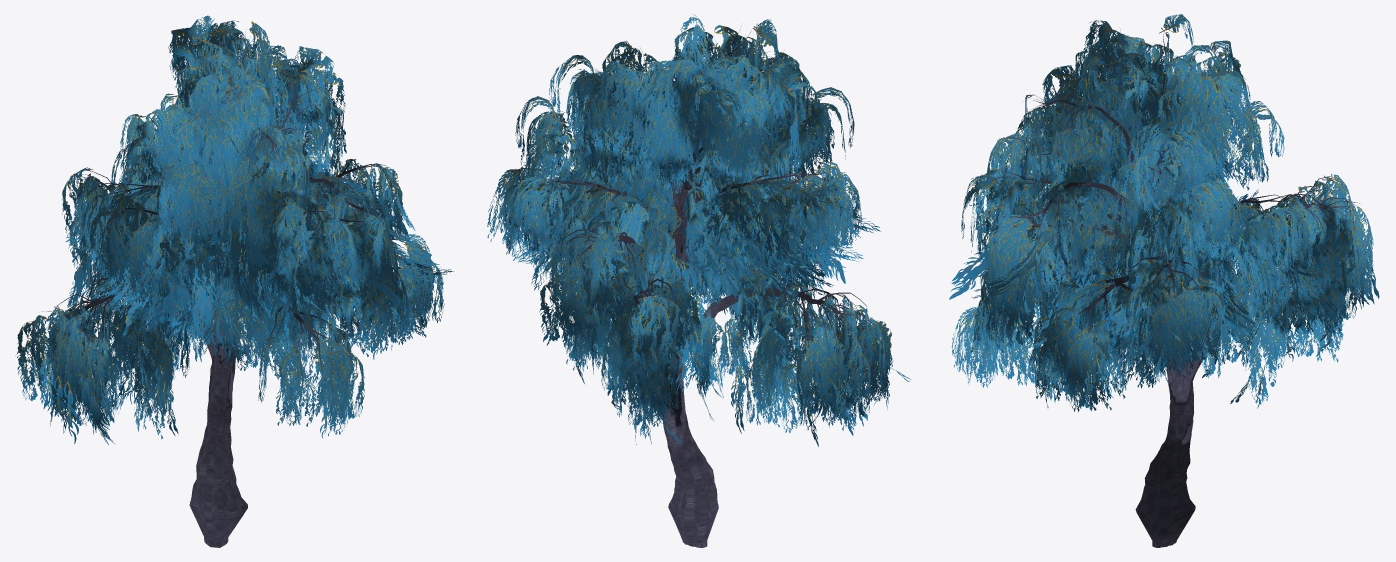
The picture shows the model from 3 angles, left to right: view 1: azimuth 30°, elevation 25°; view 2: azimuth 150°, elevation 25°; view 3: azimuth 270°, elevation 25°; orthographic projection. The views are drawn at different scales.
Parts seen in each view (by area): view 1: SM_Willow_02_LOD0; view 2: SM_Willow_02_LOD0; view 3: SM_Willow_02_LOD0.
Part boxes in pixels (left/top/right/bottom): SM_Willow_02_LOD0: left=15, top=15, right=453, bottom=547; SM_Willow_02_LOD0: left=487, top=14, right=910, bottom=547; SM_Willow_02_LOD0: left=949, top=14, right=1379, bottom=547.
Bounding box in the file's own units: 17.62 × 22.83 × 17.02.
1 material, 1 textured.
